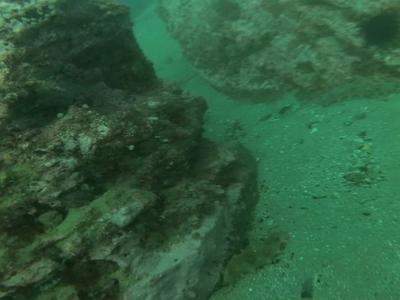holothurian: (221, 228, 288, 285), (314, 76, 388, 108)
urchin: (366, 11, 394, 46)
